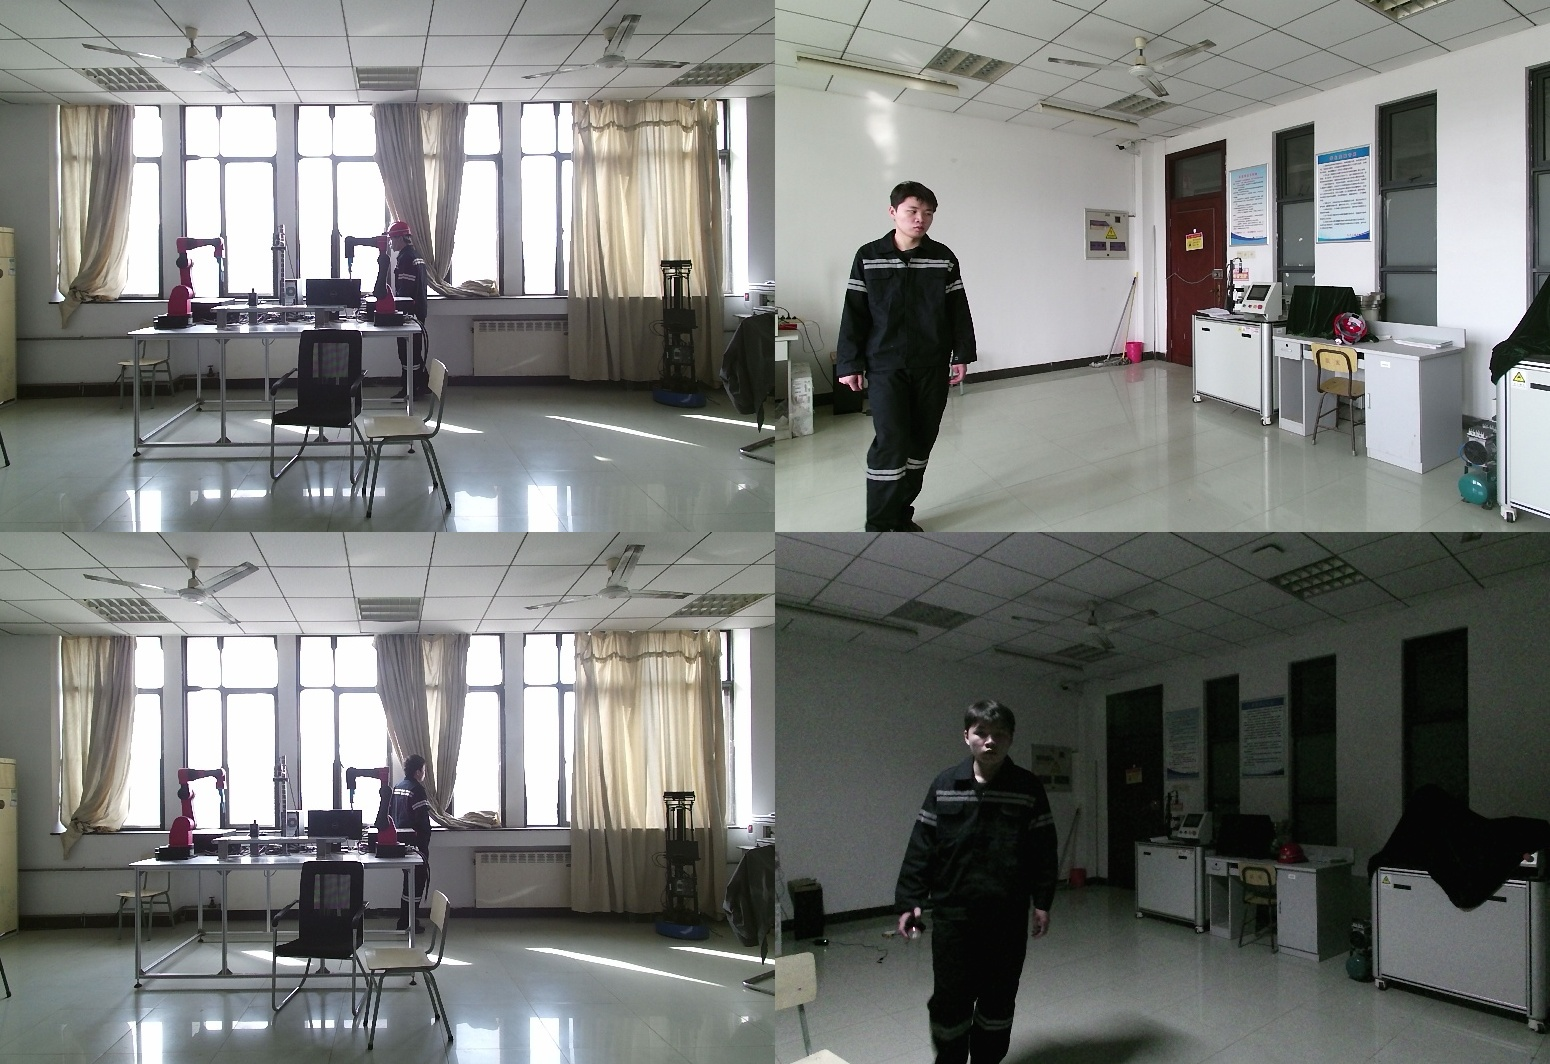person: (897, 703, 1072, 1064), (833, 183, 974, 532), (394, 754, 440, 945), (383, 220, 428, 402)
